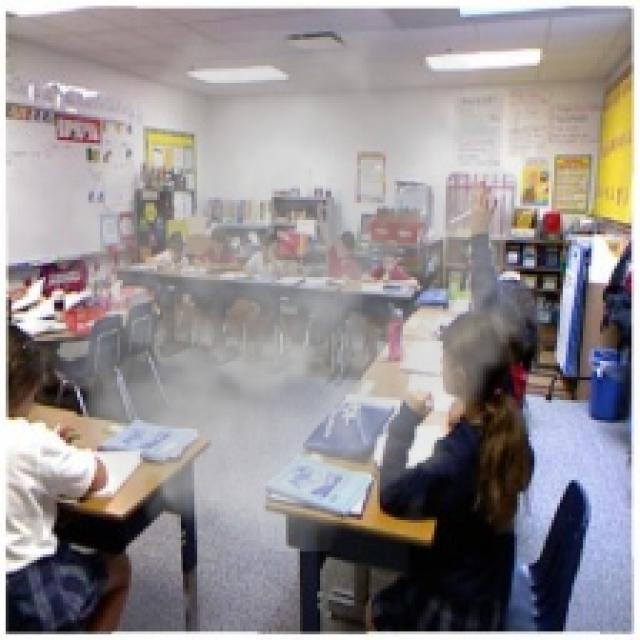Smoke: (22, 29, 558, 552)
